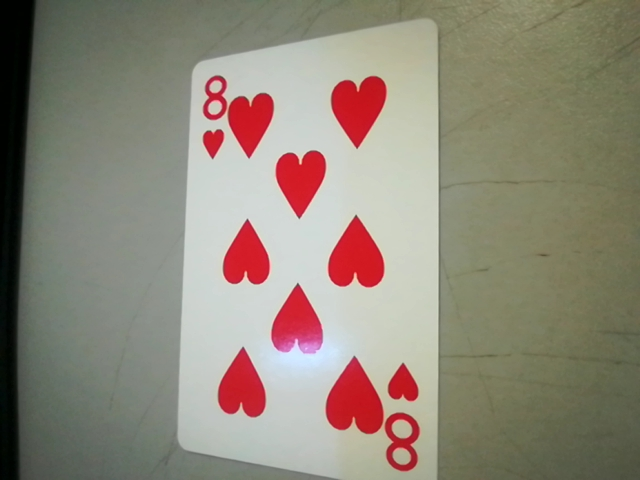hx 8: (378, 361, 434, 480)
